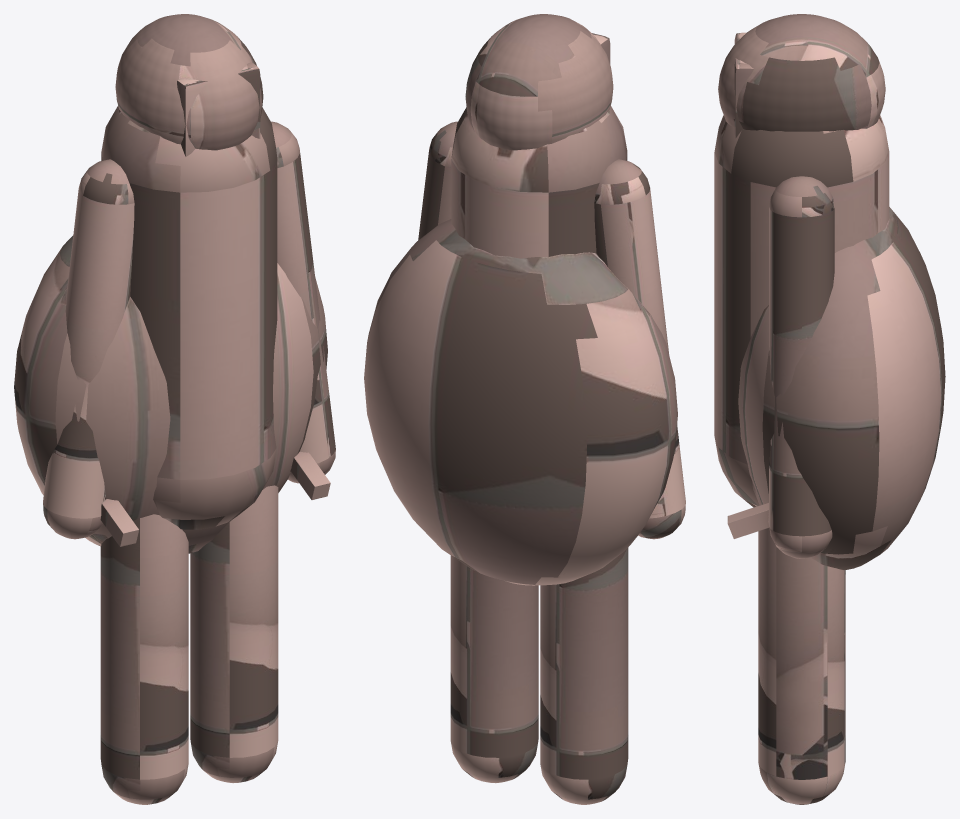
The model's file is MN_skinstealer.glb.
The picture shows the model from 3 angles, left to right: view 1: azimuth 30°, elevation 25°; view 2: azimuth 150°, elevation 25°; view 3: azimuth 270°, elevation 25°; orthographic projection.
Parts seen in each view (by area): view 1: MN_skinstealer; view 2: MN_skinstealer; view 3: MN_skinstealer.
Part boxes in pixels (box(x1,y1,x2,y2)): MN_skinstealer: box(14, 14, 335, 804); MN_skinstealer: box(364, 14, 685, 804); MN_skinstealer: box(714, 14, 945, 804).
Size of the model in its own units: 0.924 by 2.3 by 0.634.
1 material, 1 textured.
